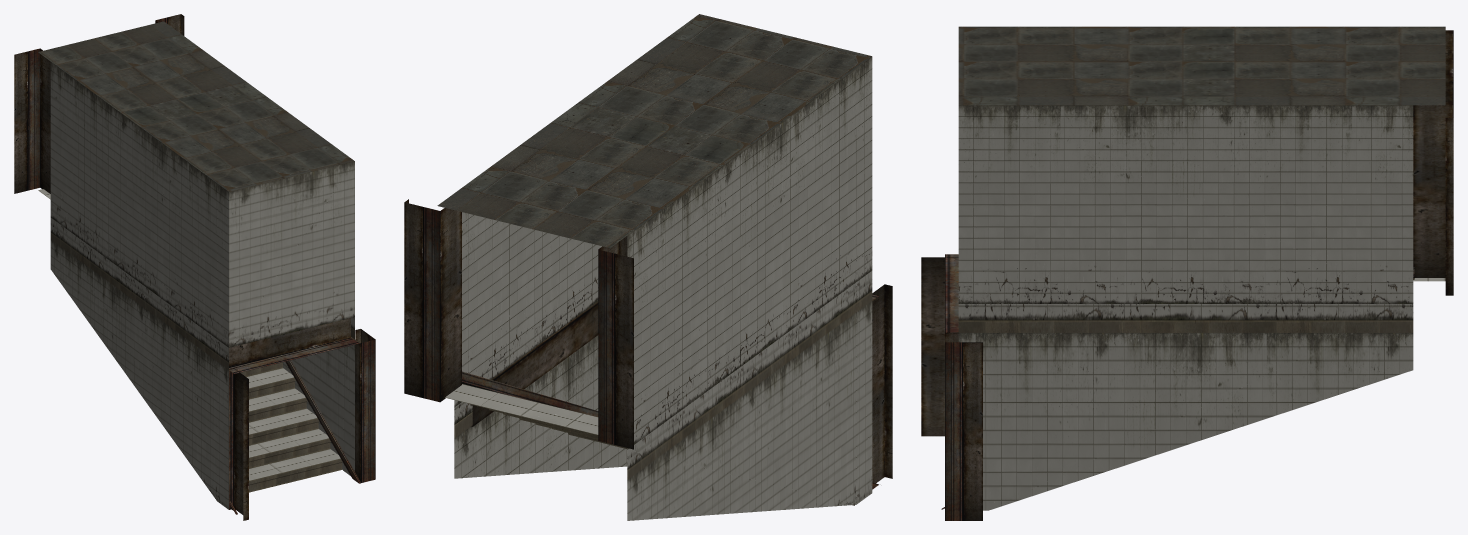
The model's file is StairC.fbx.
3 renders of one model, left to right at view 1: azimuth 30°, elevation 25°; view 2: azimuth 150°, elevation 25°; view 3: azimuth 270°, elevation 25°, orthographic. The views are drawn at different scales.
Parts seen in each view (by area): view 1: StairC; view 2: StairC; view 3: StairC.
Boxes of the visible parts, left/top/right/bottom form: StairC: left=14, top=14, right=375, bottom=520; StairC: left=404, top=14, right=892, bottom=520; StairC: left=921, top=26, right=1453, bottom=520.
Bounding box in the file's own units: 460 × 838 × 996.
